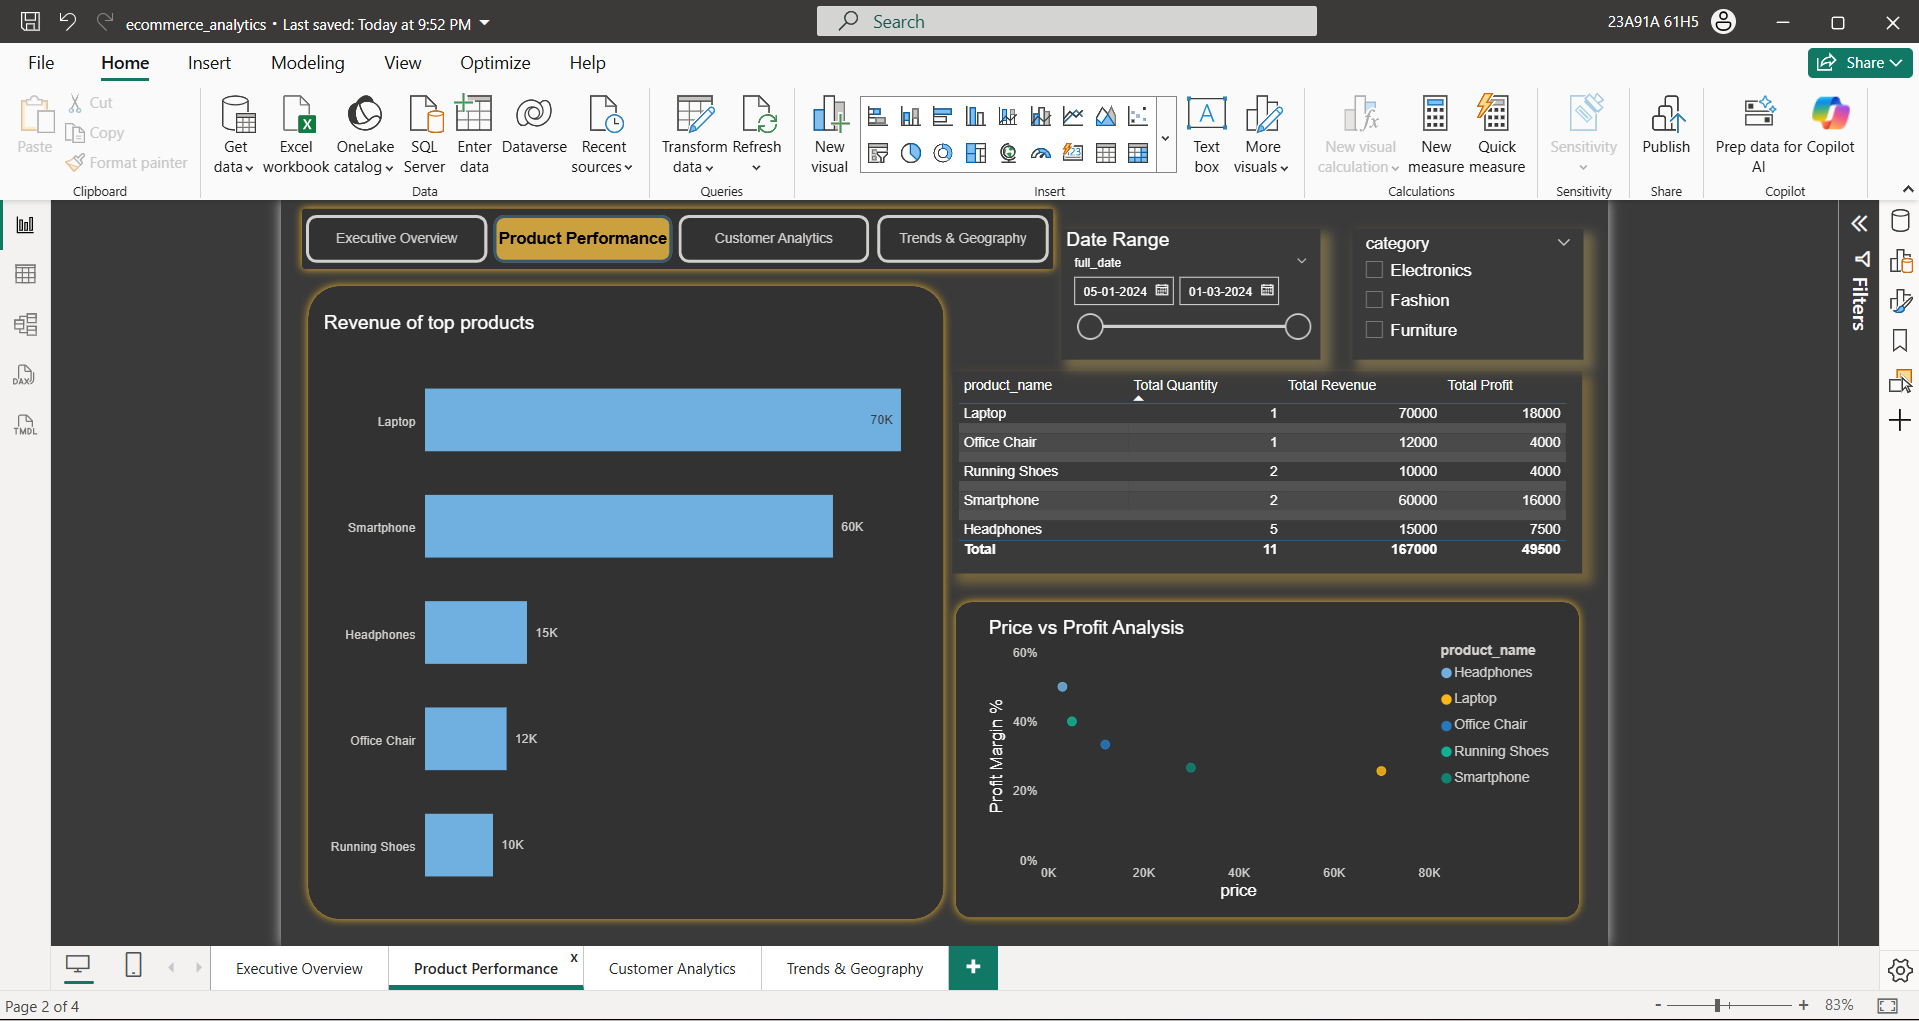

The page's visual inventory and layout, read from the dashboard file:
{"tool":"powerbi","page":{"name":"Product Performance","canvas":[1280,720],"ordinal":1},"visuals":[{"type":"shape","box":[11.7,0,741.7,75],"z":0,"group":"g3"},{"type":"shape","box":[18.3,75,629.6,627.5],"z":0,"group":"g1"},{"type":"group","id":"g1","title":"Group 1","box":[18.3,75,630,628.3],"z":0},{"type":"shape","box":[643,380,617.9,320.7],"z":0,"group":"g2"},{"type":"actionButton","box":[204.7,14.2,172.7,46.2],"z":1000,"group":"g3"},{"type":"clusteredBarChart","title":"Revenue of top products","fields":{"Category":["dim_products.product_name"],"Y":["Measuress.Total Revenue"]},"box":[36.5,107.9,595,595.9],"z":1000,"group":"g1"},{"type":"tableEx","fields":{"Values":["dim_products.product_name","Measuress.Total Quantity","Measuress.Total Revenue","Measuress.Total Profit"]},"box":[647.9,165.3,608,195.4],"z":1000},{"type":"scatterChart","title":"Price vs Profit Analysis","fields":{"Series":["dim_products.product_name"],"X":["dim_products.price"],"Y":["Measuress.Profit Margin %"]},"box":[678,402.1,560.1,278.3],"z":1000,"group":"g2"},{"type":"actionButton","box":[383.1,14.2,184.1,46.2],"z":2000,"group":"g3"},{"type":"group","id":"g2","title":"Group 2","box":[643,380,617.7,320.9],"z":2000},{"type":"actionButton","box":[575.1,14.2,165.5,46.2],"z":3000,"group":"g3"},{"type":"slicer","title":"Date Range","fields":{"Values":["dim_date.full_date"]},"box":[753.3,28.3,250,126.7],"z":3000},{"type":"actionButton","box":[23.6,14.4,175.1,46.2],"z":4000,"group":"g3"},{"type":"slicer","fields":{"Values":["dim_products.category"]},"box":[1033.3,28.3,223.3,126.7],"z":4000},{"type":"group","id":"g3","title":"Group 4","box":[11.7,0,741.7,75],"z":5000}]}

Visuals, with their boxes on the page's 1280x720 design canvas (x1, y1, x2, y2). These are canvas units, not pixel positions in the 1919x1021 screenshot, which may show the page scaled, cropped or inside an application window:
shape: select_region(12, 0, 753, 75)
shape: select_region(18, 75, 648, 702)
"Group 1" group: select_region(18, 75, 648, 703)
shape: select_region(643, 380, 1261, 701)
actionButton: select_region(205, 14, 377, 60)
"Revenue of top products" clusteredBarChart: select_region(36, 108, 632, 704)
tableEx - dim_products.product_name x Measuress.Total Quantity: select_region(648, 165, 1256, 361)
"Price vs Profit Analysis" scatterChart: select_region(678, 402, 1238, 680)
actionButton: select_region(383, 14, 567, 60)
"Group 2" group: select_region(643, 380, 1261, 701)
actionButton: select_region(575, 14, 741, 60)
"Date Range" slicer: select_region(753, 28, 1003, 155)
actionButton: select_region(24, 14, 199, 61)
slicer - dim_products.category: select_region(1033, 28, 1257, 155)
"Group 4" group: select_region(12, 0, 753, 75)
